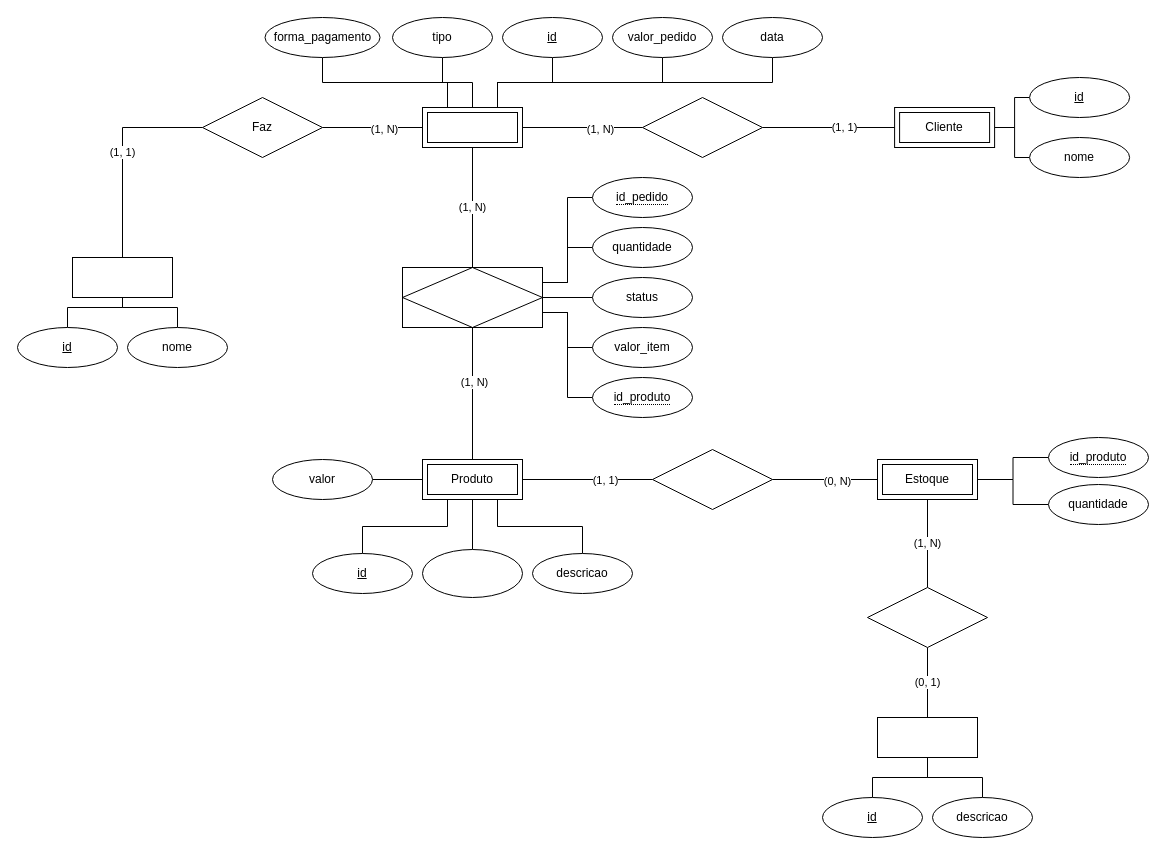
Image size: 1166x855. Some labels were removed from this diagram. Here are the shapes that lost their labels. From the top down, the centre of each, then its label:
At (x=472, y=127): "Pedido".
At (x=702, y=127): "Contem".
At (x=122, y=277): "Usuario".
At (x=472, y=297): "ItemPedido Contem".
At (x=712, y=479): "Existe".
At (x=472, y=573): "codigo_barras".
At (x=927, y=617): "Pertence".
At (x=927, y=737): "Filial".
